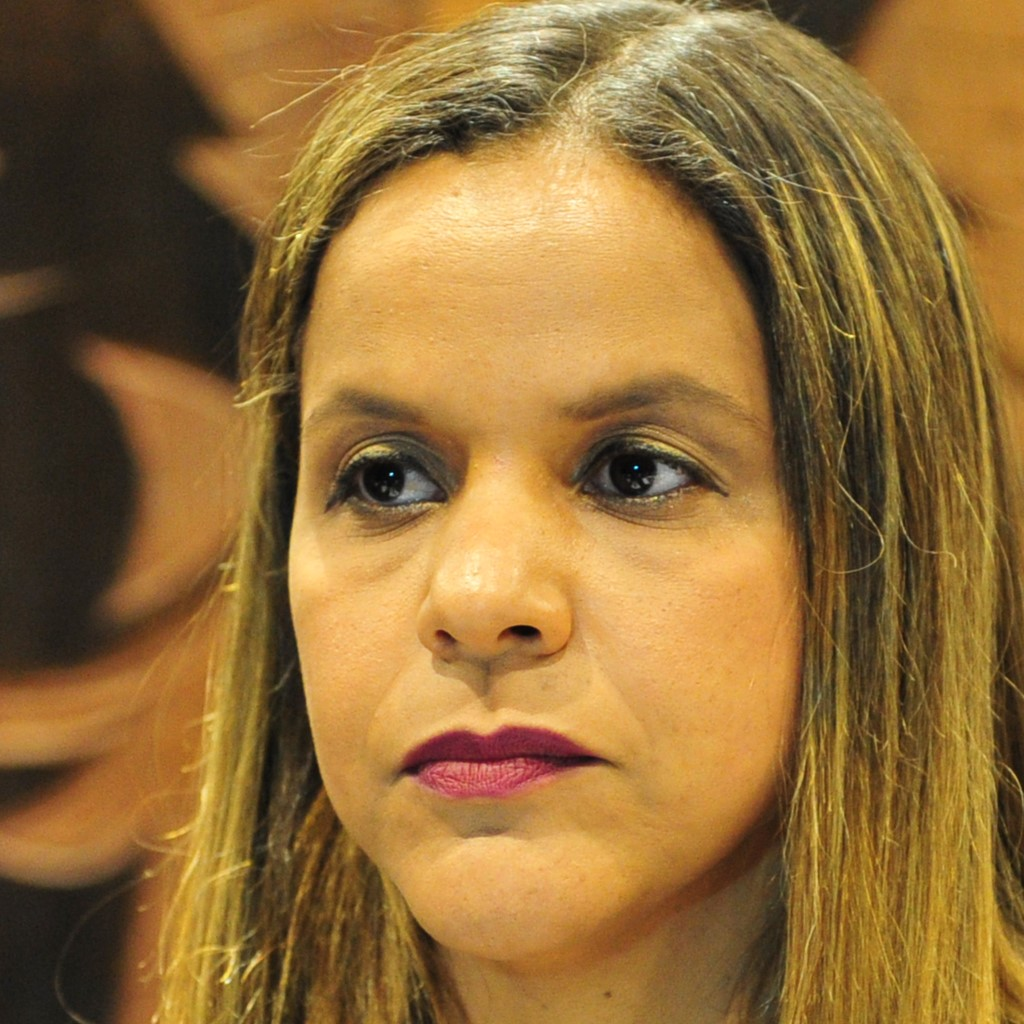sin_mascara: (261, 109, 902, 983)
